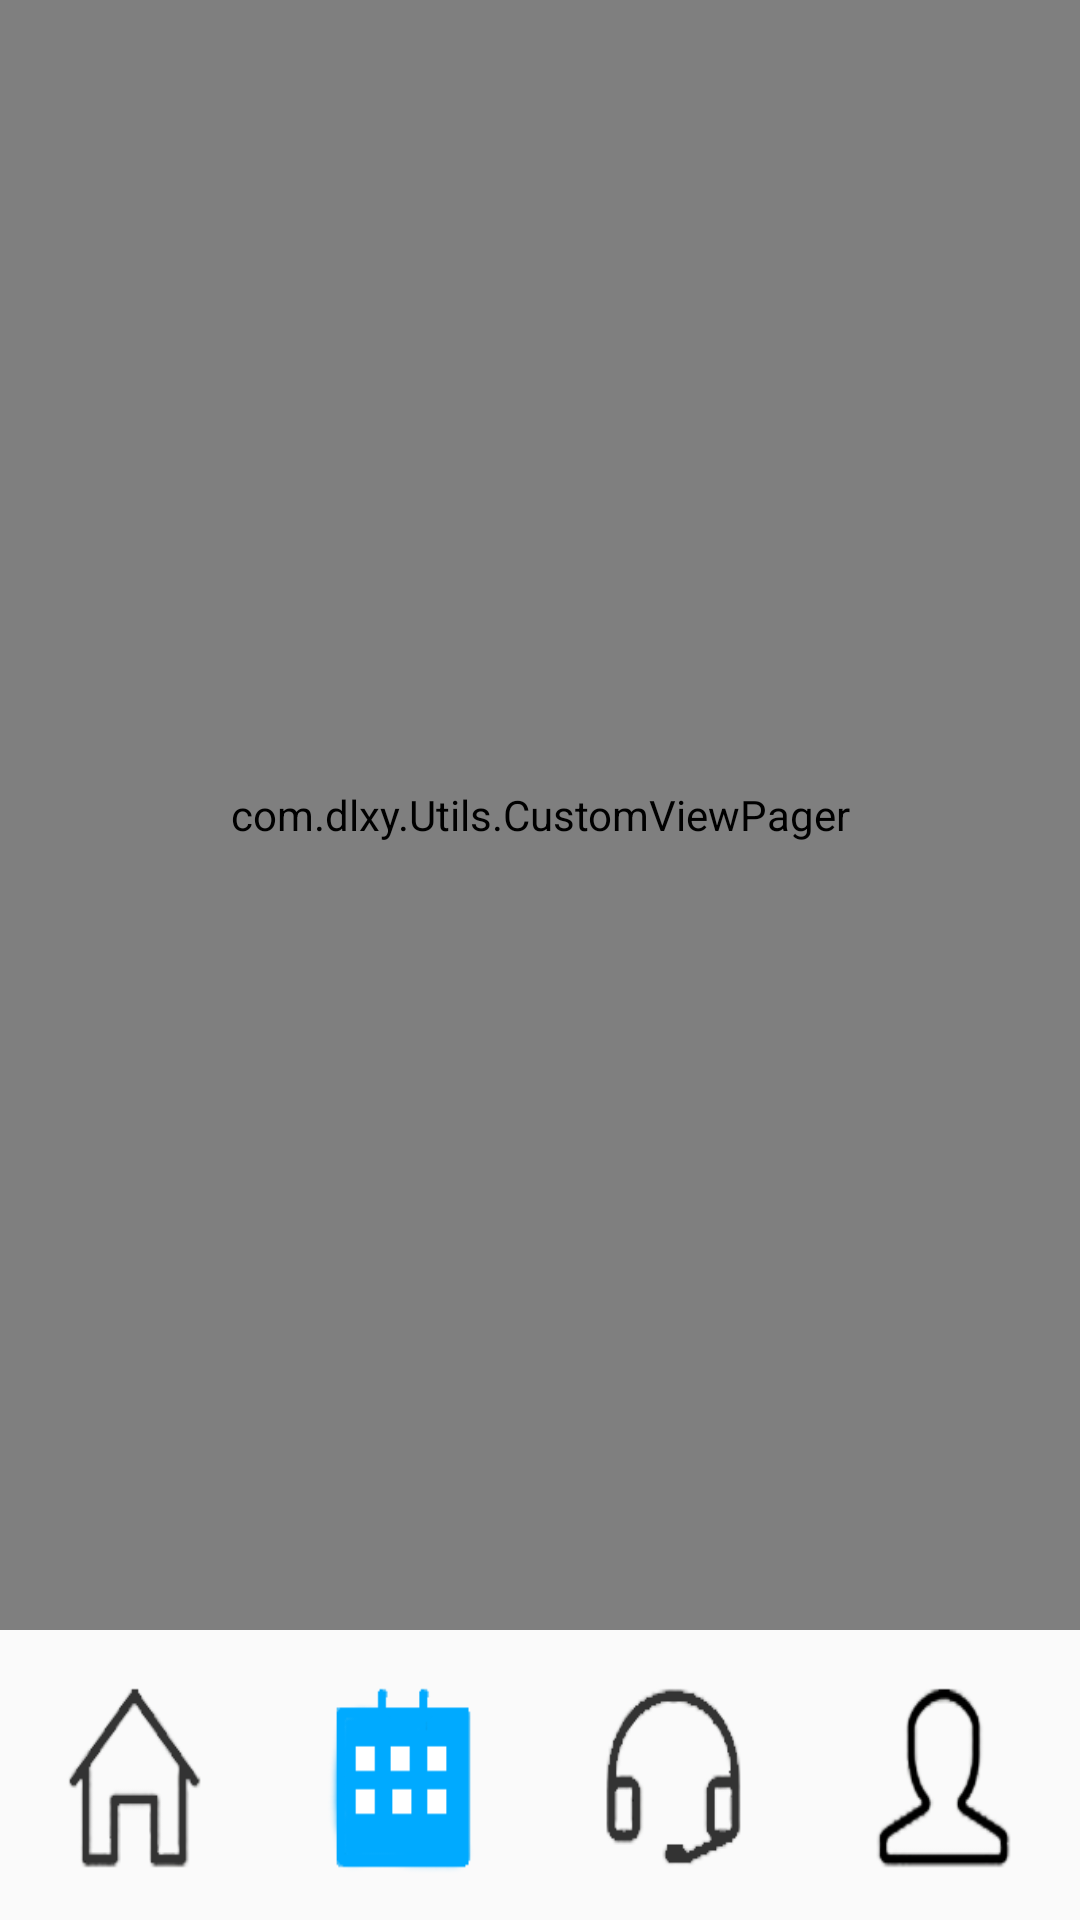

Point at icon controls on the screen. Image size 1080×1920, points as [x,y].
im rg kefu false: [673,1776]
im rg shouye false: [135,1777]
im rg wode false: [944,1777]
im rg xingcheng true: [401,1778]
